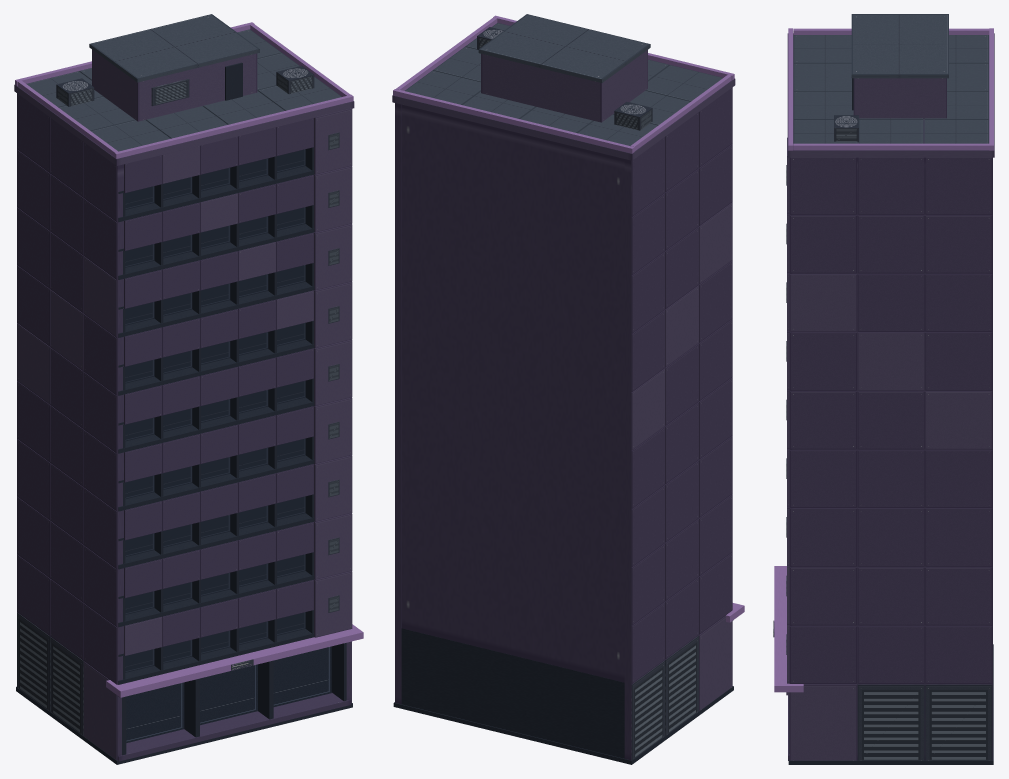
Rendered from prism.glb.
3 renders of one model, left to right at view 1: azimuth 30°, elevation 25°; view 2: azimuth 150°, elevation 25°; view 3: azimuth 270°, elevation 25°, orthographic.
Visible parts, largest first — view 1: Architecture, Store_01, Store_03, Store_02; view 2: Architecture; view 3: Architecture.
Part boxes in pixels (bbox=[...]): Architecture: bbox=[14, 14, 363, 764]; Store_01: bbox=[126, 682, 184, 742]; Store_03: bbox=[273, 646, 331, 706]; Store_02: bbox=[200, 664, 257, 725]; Architecture: bbox=[392, 14, 744, 764]; Architecture: bbox=[773, 14, 994, 764].
Size of the model in its own units: 11.2 by 28.68 by 8.73.
Materials: 1 (1 with a texture image).
